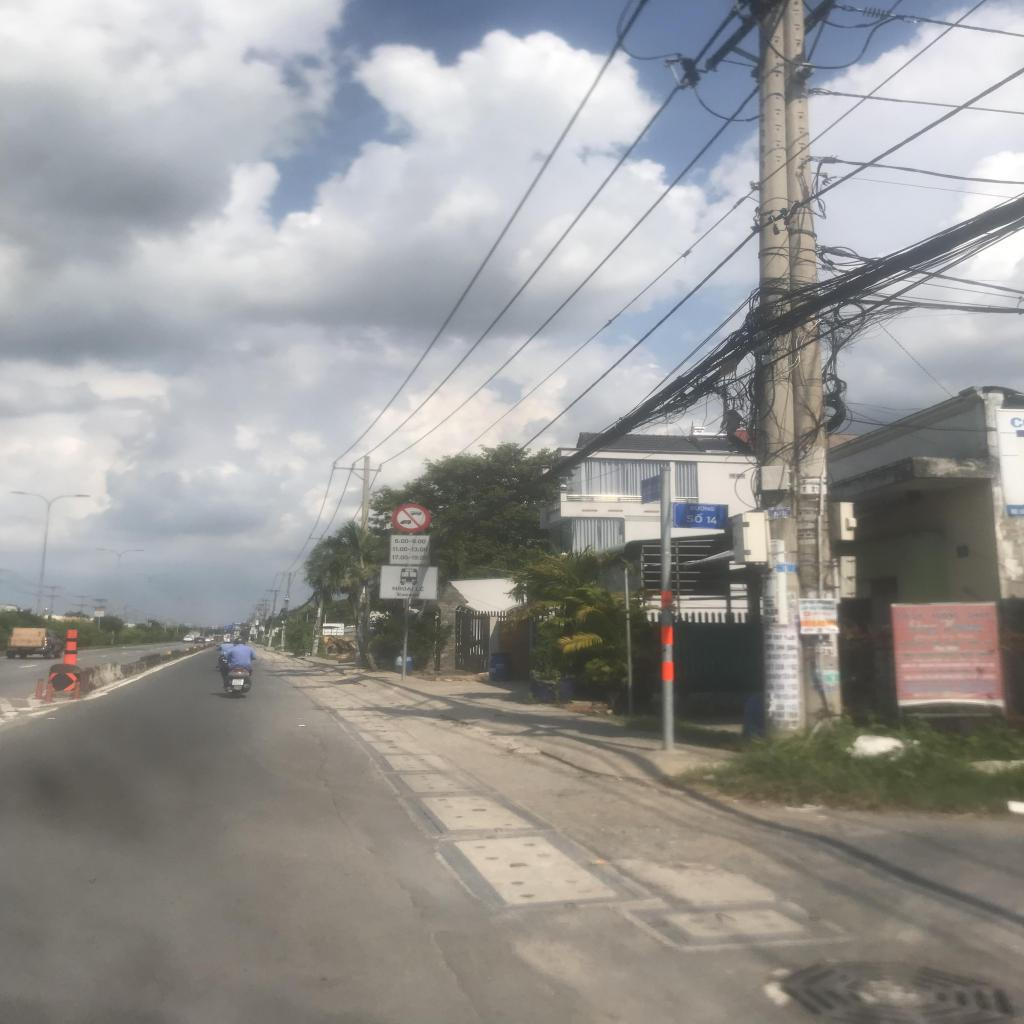cam_o_to_tai_va_xe_khach: (392, 503, 432, 533)
khac: (380, 566, 438, 600), (390, 535, 430, 564)
